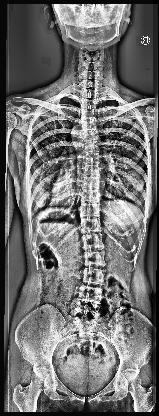Vertebrae: (74, 288, 106, 304), (76, 270, 108, 286), (80, 251, 108, 267), (77, 236, 107, 249), (77, 220, 103, 232), (78, 204, 102, 216), (80, 190, 102, 200), (80, 178, 100, 188), (81, 165, 101, 175), (82, 141, 102, 151), (79, 110, 99, 120), (82, 154, 100, 164), (78, 121, 100, 129), (78, 100, 100, 108), (81, 132, 101, 140), (80, 89, 98, 97)
